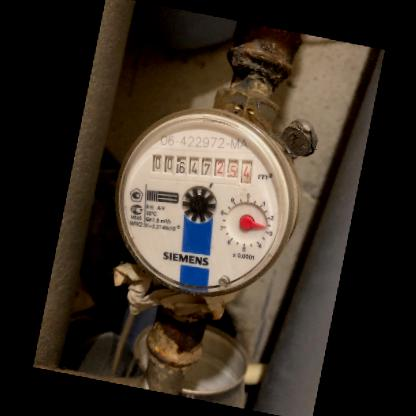digital_screen: (143, 146, 213, 185)
